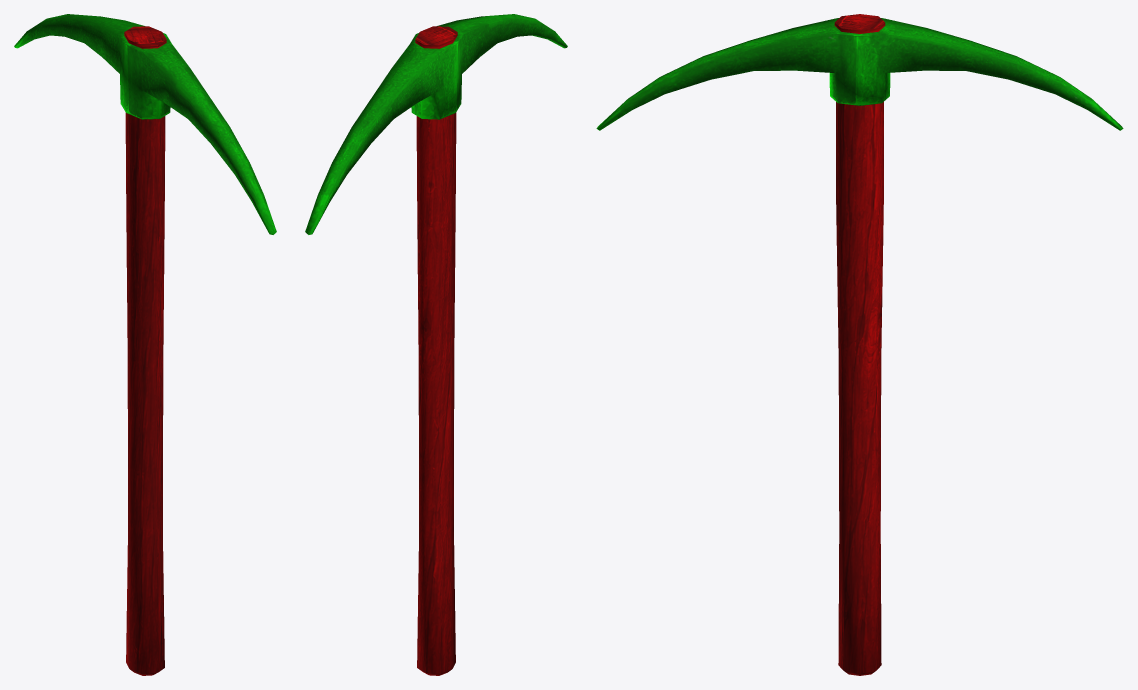
The model's file is Pickaxe01.fbx.
3 renders of one model, left to right at view 1: azimuth 30°, elevation 25°; view 2: azimuth 150°, elevation 25°; view 3: azimuth 270°, elevation 25°, orthographic. The views are drawn at different scales.
Visible parts, largest first — view 1: Pickaxe01_LOD0; view 2: Pickaxe01_LOD0; view 3: Pickaxe01_LOD0.
Part boxes in pixels (box(x1,y1,x2,y2)): Pickaxe01_LOD0: box(14, 14, 276, 675); Pickaxe01_LOD0: box(305, 14, 567, 675); Pickaxe01_LOD0: box(596, 14, 1123, 675).
Size of what is drawn, in the model's own units: 0.0454 by 0.6664 by 0.489.
